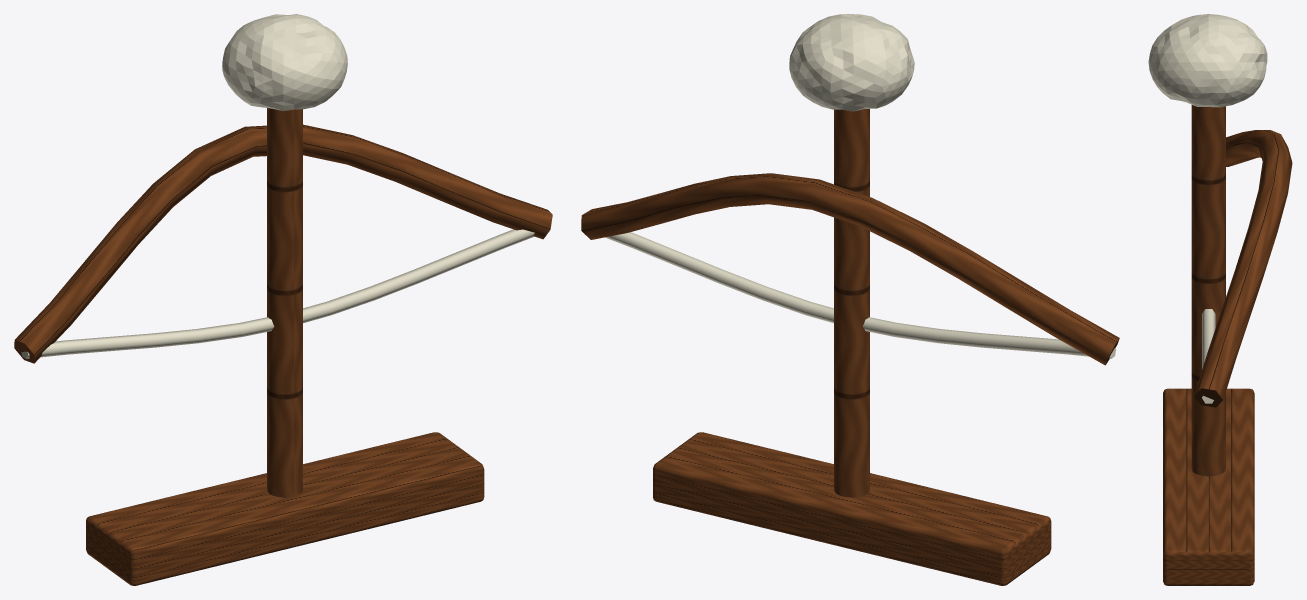
The model's file is bow-2.glb.
3 views of the same model, side by side, from view 1: azimuth 30°, elevation 25°; view 2: azimuth 150°, elevation 25°; view 3: azimuth 270°, elevation 25° (orthographic). The views are drawn at different scales.
Visible parts, largest first — view 1: bow-drill; view 2: bow-drill; view 3: bow-drill.
Part boxes in pixels (x1,y1,x2,y2): bow-drill: (14,14,552,585); bow-drill: (581,14,1119,585); bow-drill: (1148,14,1292,585).
Bounding box in the file's own units: 0.5116 × 0.4656 × 0.1255.
2 materials, 1 textured.
